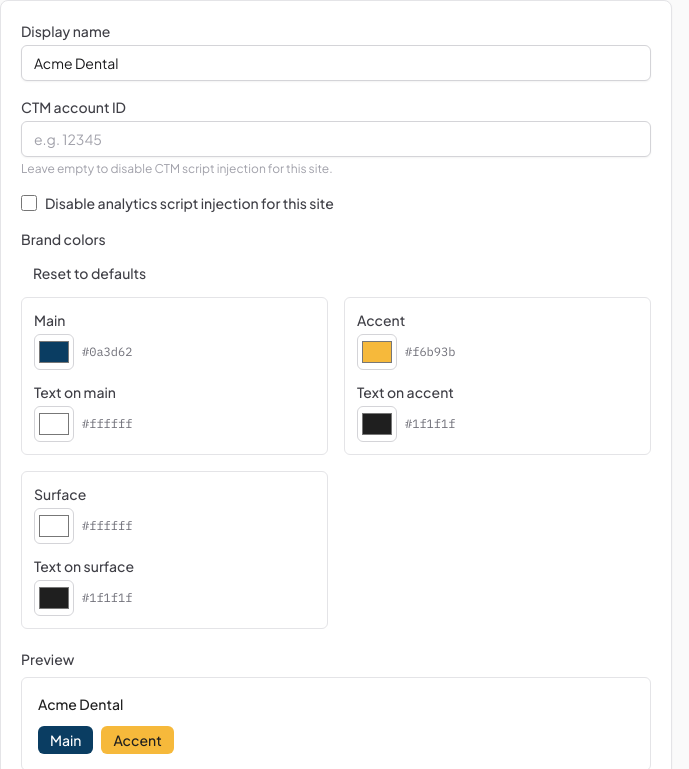
Test case: SettingsTab (P4-T4.15) › Save is disabled until something changes, then PATCHes only the diff
Replace the text in the field labelled "Display name" with "Acme Dental Group": (336, 63) [21, 45, 651, 81]
(page scrolled)
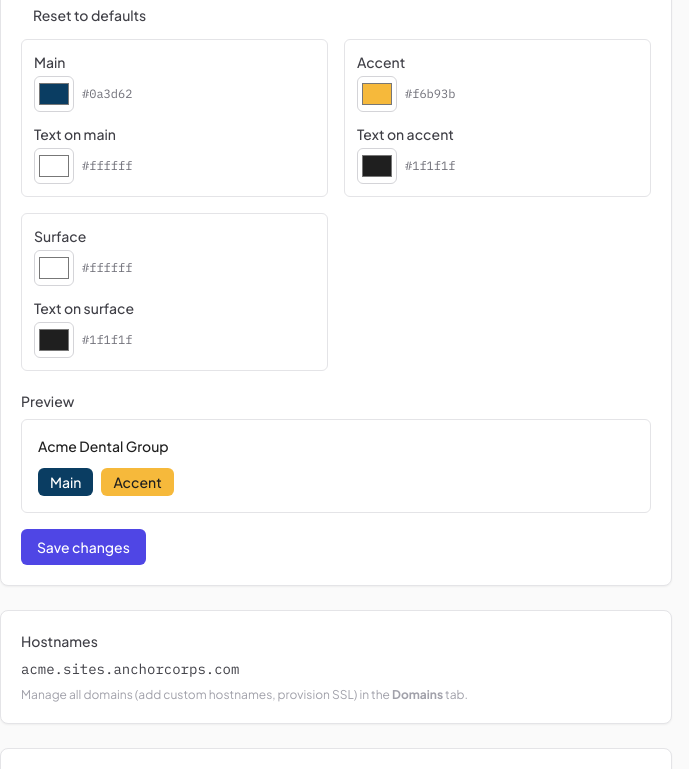
expect the button "Save changes" is enabled: met
Click the button "Save changes": (83, 547) [21, 529, 146, 565]
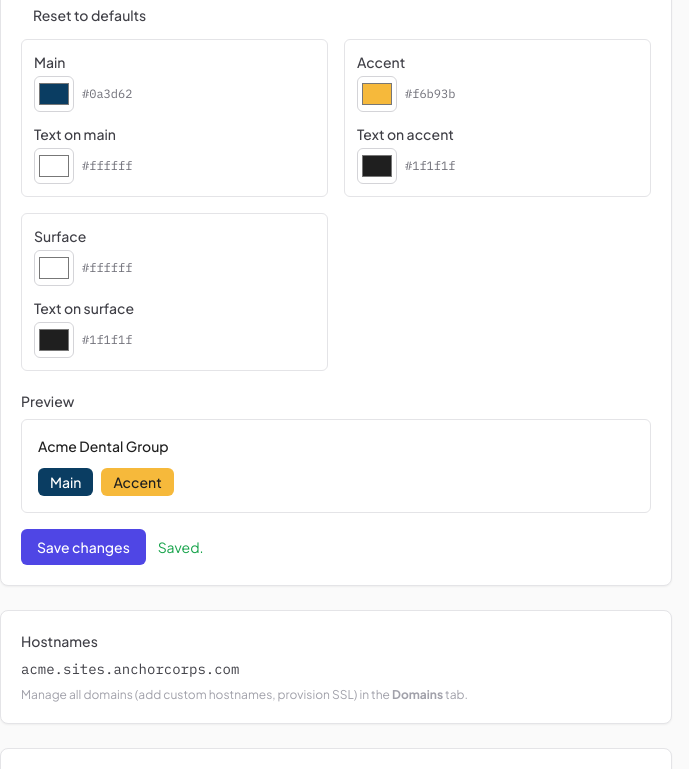
expect the text "Saved." is shown: met, box [158, 537, 204, 557]
